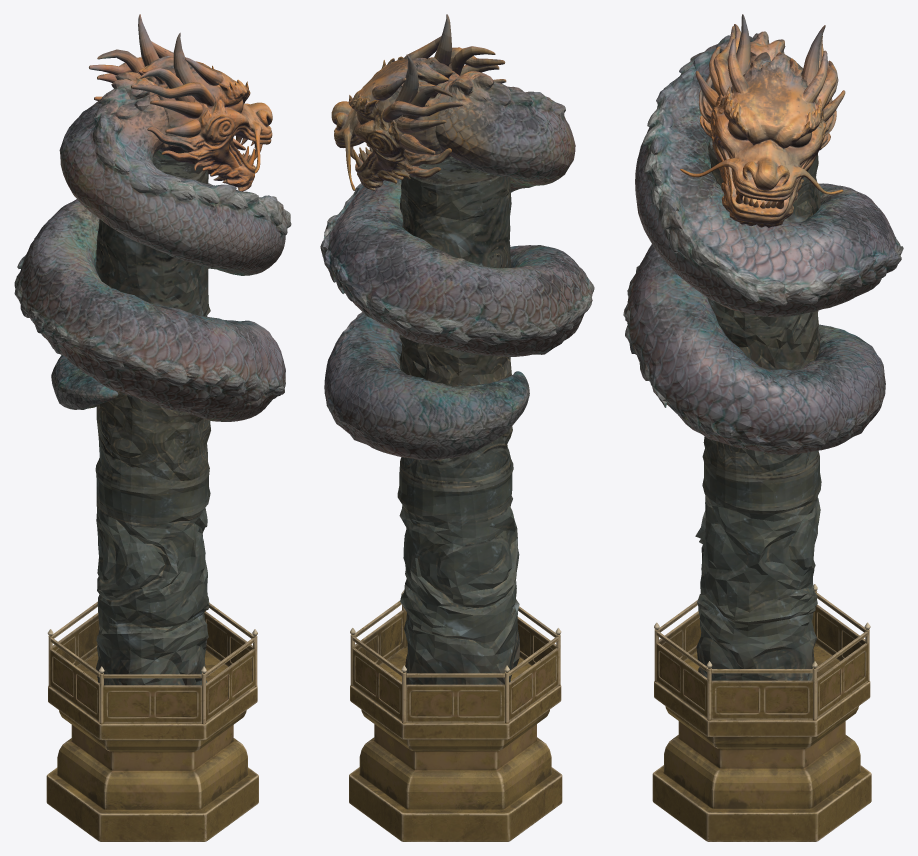
Rendered from Dragon Pillar.fbx.
The picture shows the model from 3 angles, left to right: view 1: azimuth 30°, elevation 25°; view 2: azimuth 150°, elevation 25°; view 3: azimuth 270°, elevation 25°; orthographic projection. The views are drawn at different scales.
Parts seen in each view (by area): view 1: XI_AWT_Dragon_Pillar.Shape; view 2: XI_AWT_Dragon_Pillar.Shape; view 3: XI_AWT_Dragon_Pillar.Shape.
Part boxes in pixels (x1,y1,x2,y2): XI_AWT_Dragon_Pillar.Shape: (14,14,291,841); XI_AWT_Dragon_Pillar.Shape: (320,14,594,841); XI_AWT_Dragon_Pillar.Shape: (623,14,903,841).
Size of the model in its own units: 181 by 560 by 178.
1 material, 1 textured.
